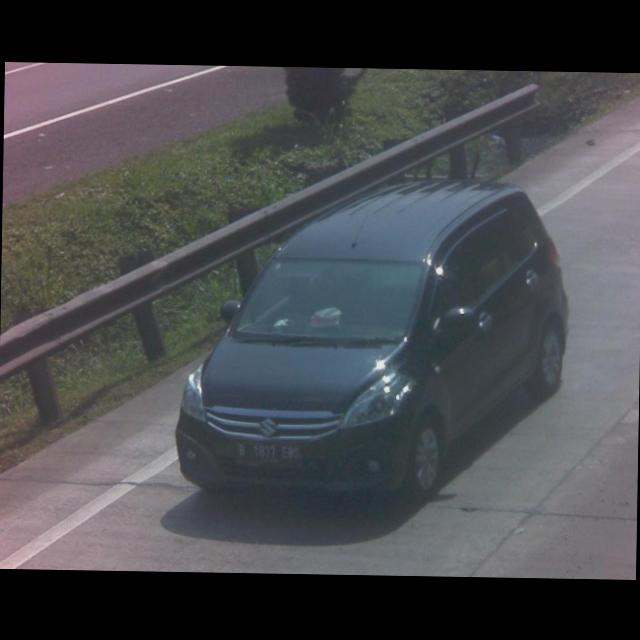plate: (232, 440, 301, 464)
